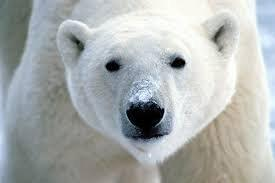bear: (0, 0, 272, 182)
